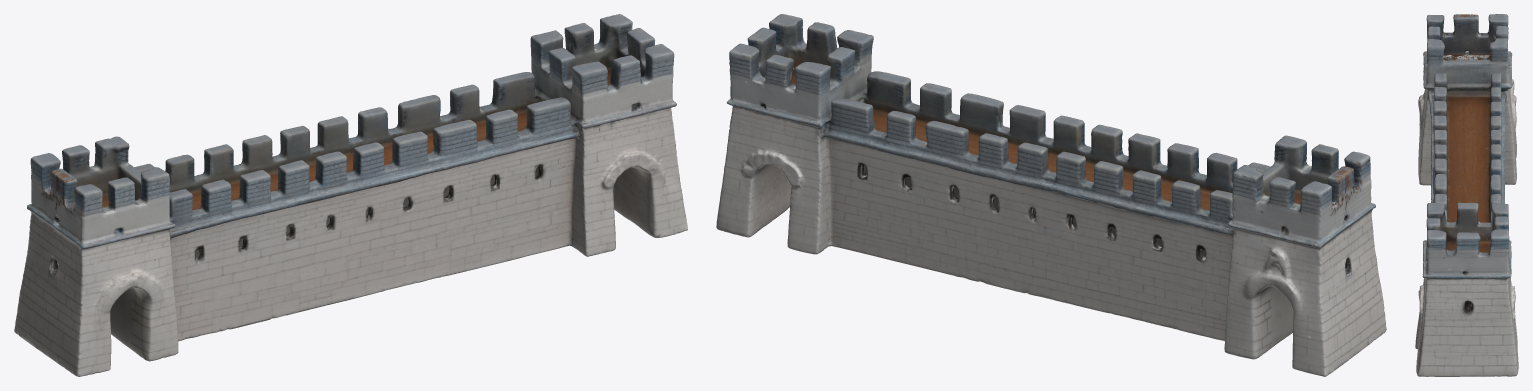
File: wall.glb
3 renders of one model, left to right at view 1: azimuth 30°, elevation 25°; view 2: azimuth 150°, elevation 25°; view 3: azimuth 270°, elevation 25°, orthographic. The views are drawn at different scales.
Size of the model in its own units: 2 by 0.5688 by 0.3782.
Materials: 1 (1 with a texture image).
